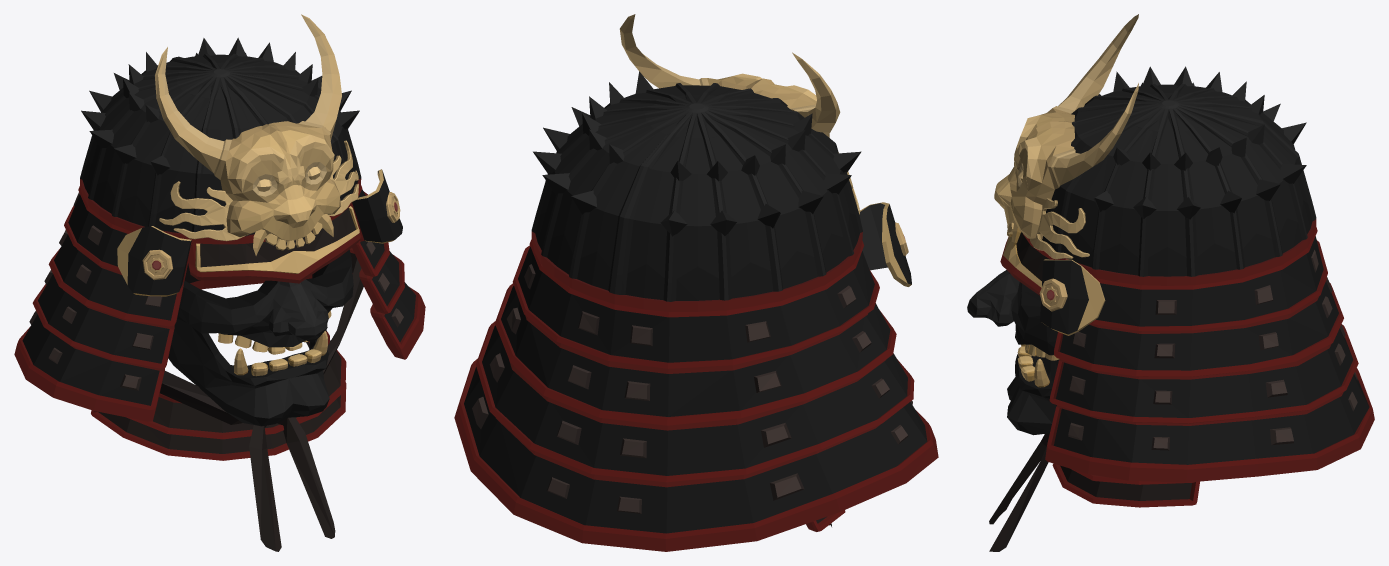
Rendered from samuraiArmorDemonHelmetBlack.glb.
The picture shows the model from 3 angles, left to right: view 1: azimuth 30°, elevation 25°; view 2: azimuth 150°, elevation 25°; view 3: azimuth 270°, elevation 25°; orthographic projection. The views are drawn at different scales.
Parts seen in each view (by area): view 1: samuraiArmorDemonHelmetBlack; view 2: samuraiArmorDemonHelmetBlack; view 3: samuraiArmorDemonHelmetBlack.
Part boxes in pixels (bbox=[...]): samuraiArmorDemonHelmetBlack: bbox=[14, 14, 425, 551]; samuraiArmorDemonHelmetBlack: bbox=[454, 14, 938, 551]; samuraiArmorDemonHelmetBlack: bbox=[967, 14, 1374, 551].
Bounding box in the file's own units: 0.4889 × 0.5814 × 0.4387.
